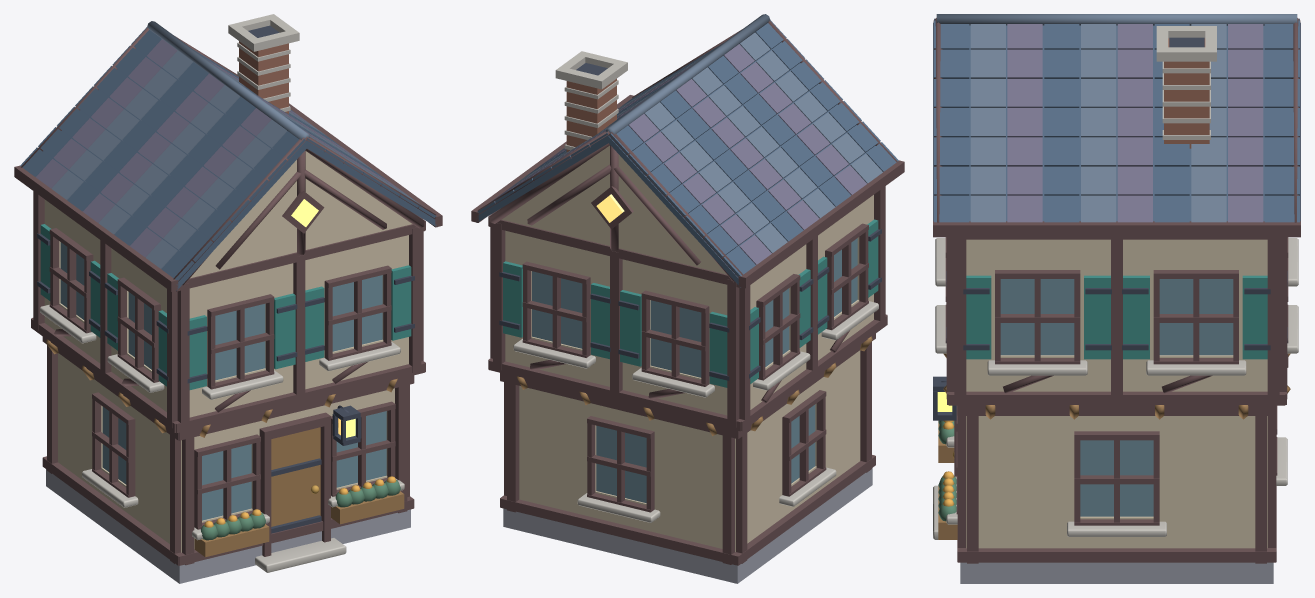
File: house_A.glb
3 renders of one model, left to right at view 1: azimuth 30°, elevation 25°; view 2: azimuth 150°, elevation 25°; view 3: azimuth 270°, elevation 25°, orthographic. The views are drawn at different scales.
Parts seen in each view (by area): view 1: House_A_gable_plaster, House_A_stone_footing, House_A_oak_door, House_A_front_timber_course.002, House_A_slate_roof_shell, House_A_eave_fascia, glass_House_A_front_upper_0, House_A_left_ground_plaster.001, glass_House_A_front_upper_1, glass_House_A_front_lower_0, House_A_left_ground_plaster.006, House_A_front_timber_course.003 (+82 smaller); view 2: House_A_gable_plaster.001, House_A_stone_footing, House_A_back_ground_plaster.001, House_A_back_ground_plaster.006, House_A_back_timber_course, House_A_back_timber_course.002, House_A_slate_roof_shell, House_A_eave_fascia, glass_House_A_back_upper_1, House_A_left_ground_plaster.001, House_A_left_ground_plaster.006, glass_House_A_back_upper_0 (+117 smaller); view 3: House_A_right_ground_plaster.006, House_A_right_ground_plaster.001, House_A_stone_footing, House_A_eave_fascia.001, glass_House_A_right_upper_0, glass_House_A_right_upper_1, House_A_right_timber_course, glass_House_A_right_lower_0, House_A_right_timber_course.002, House_A_slate_roof_shell.001, House_A_slate_ridge, House_A_right_timber_course.001 (+122 smaller).
Part boxes in pixels (box(x1,y1,x2,y2)): House_A_gable_plaster: box(190, 151, 411, 278); House_A_stone_footing: box(46, 469, 410, 583); House_A_oak_door: box(271, 427, 320, 526); House_A_front_timber_course.002: box(174, 361, 425, 433); House_A_slate_roof_shell: box(43, 49, 306, 290); House_A_eave_fascia: box(14, 165, 178, 291); glass_House_A_front_upper_0: box(215, 304, 265, 380); House_A_left_ground_plaster.001: box(58, 368, 102, 467); glass_House_A_front_upper_1: box(332, 275, 382, 351); glass_House_A_front_lower_0: box(202, 444, 251, 520); House_A_left_ground_plaster.006: box(135, 425, 181, 525); House_A_front_timber_course.003: box(176, 221, 425, 291); House_A_gable_plaster.001: box(502, 145, 726, 274); House_A_stone_footing: box(503, 468, 872, 583); House_A_back_ground_plaster.001: box(519, 404, 596, 491); House_A_back_ground_plaster.006: box(654, 437, 735, 522); House_A_back_timber_course: box(500, 498, 738, 565); House_A_back_timber_course.002: box(488, 360, 742, 431); House_A_slate_roof_shell: box(608, 42, 875, 287); House_A_eave_fascia: box(738, 160, 904, 288); glass_House_A_back_upper_1: box(650, 300, 701, 377); House_A_left_ground_plaster.001: box(735, 423, 782, 525); House_A_left_ground_plaster.006: box(815, 366, 859, 466); glass_House_A_back_upper_0: box(532, 271, 582, 348); House_A_right_ground_plaster.006: box(1159, 437, 1267, 517); House_A_right_ground_plaster.001: box(979, 437, 1074, 517); House_A_stone_footing: box(960, 562, 1273, 583); House_A_eave_fascia.001: box(933, 221, 1300, 237); glass_House_A_right_upper_0: box(1000, 279, 1074, 355); glass_House_A_right_upper_1: box(1159, 279, 1233, 355); House_A_right_timber_course: box(958, 548, 1275, 562); glass_House_A_right_lower_0: box(1080, 440, 1153, 516); House_A_right_timber_course.002: box(948, 391, 1285, 405); House_A_slate_roof_shell.001: box(933, 22, 1300, 221); House_A_slate_ridge: box(936, 14, 1297, 25); House_A_right_timber_course.001: box(958, 405, 1275, 415).
Bounding box in the file's own units: 4.99 × 7.74 × 5.
